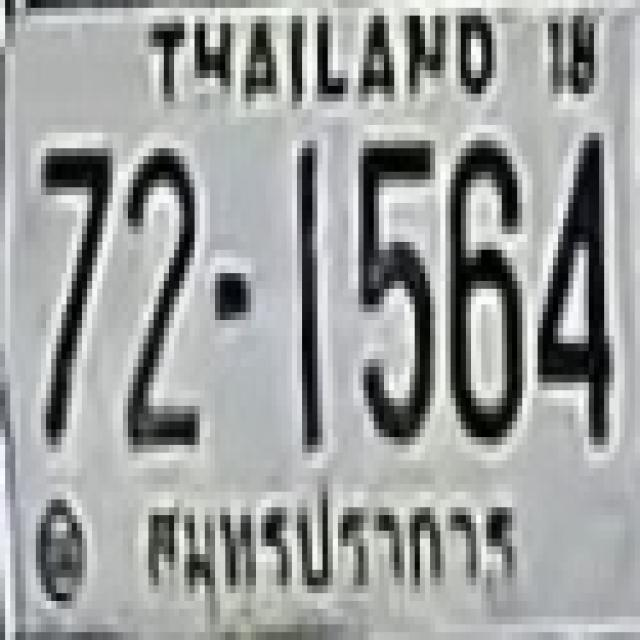1: (294, 137, 320, 441)
2: (120, 140, 197, 445)
4: (535, 130, 612, 442)
5: (357, 141, 434, 445)
6: (447, 137, 523, 443)
7: (38, 143, 109, 440)
SPK: (128, 470, 533, 613)
